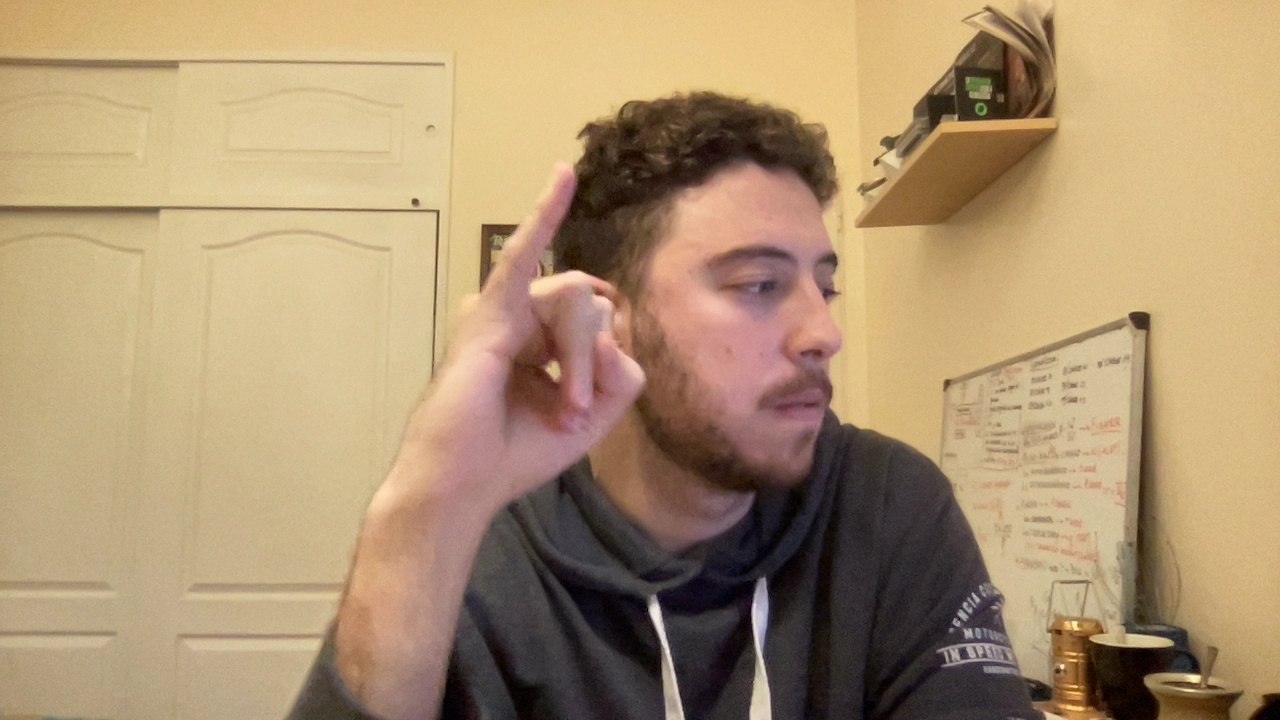menique: (352, 166, 672, 515)
